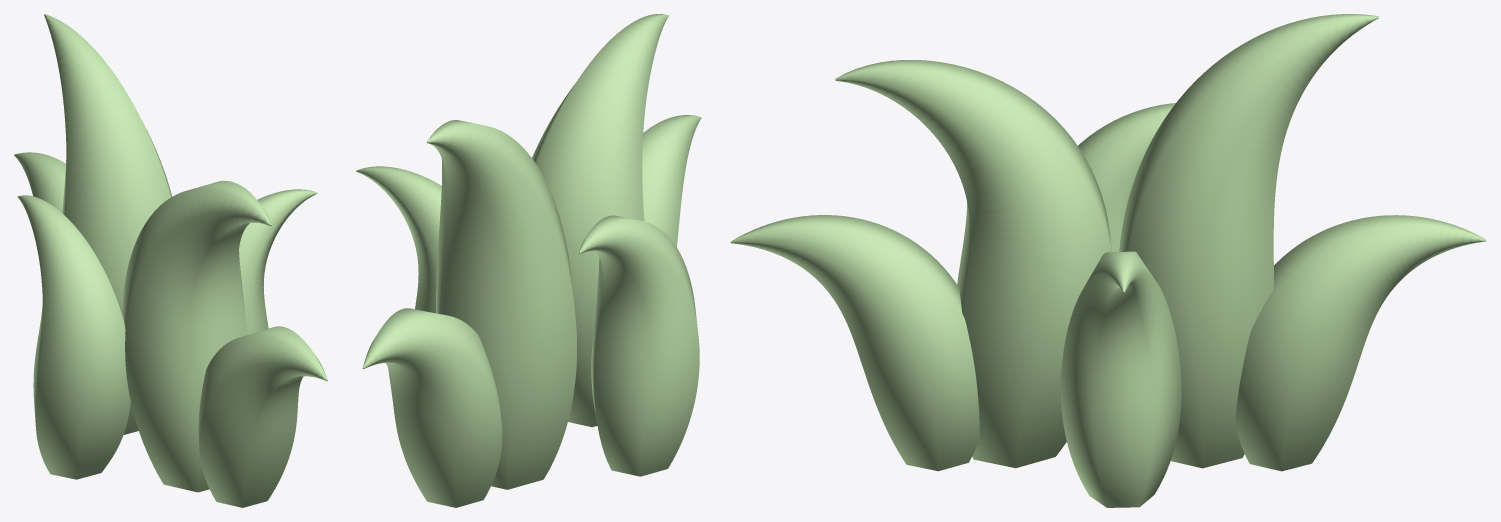
The model's file is Pasto2.fbx.
The picture shows the model from 3 angles, left to right: view 1: azimuth 30°, elevation 25°; view 2: azimuth 150°, elevation 25°; view 3: azimuth 270°, elevation 25°; orthographic projection. The views are drawn at different scales.
Visible parts, largest first — view 1: NurbsPath.005; view 2: NurbsPath.005; view 3: NurbsPath.005.
Boxes of the visible parts, x1,y1,x2,y2 form: NurbsPath.005: [14, 14, 327, 507]; NurbsPath.005: [356, 14, 701, 507]; NurbsPath.005: [730, 14, 1486, 507].
Size of the model in its own units: 67.49 by 77.16 by 122.
